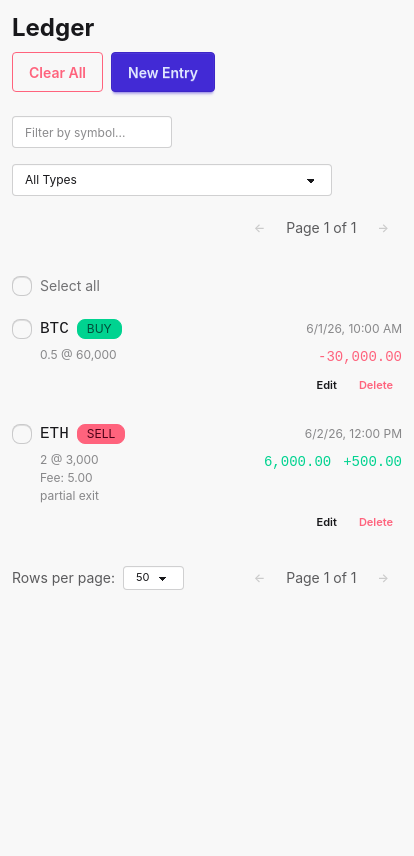
Test: LedgerPage — checkbox selection › "Select all" checkbox selects all entries and shows bulk-delete button
# The mobile "Select all" checkbox is next to the "Select all" label
Click the checkbox next to "Select all" at (22, 286), box [12,276,32,296]
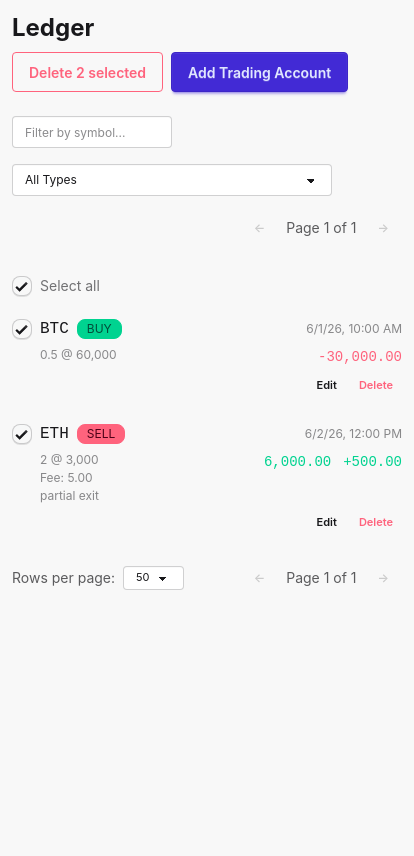
Now the button "Delete 2 selected" is shown, box [12,52,163,92]
